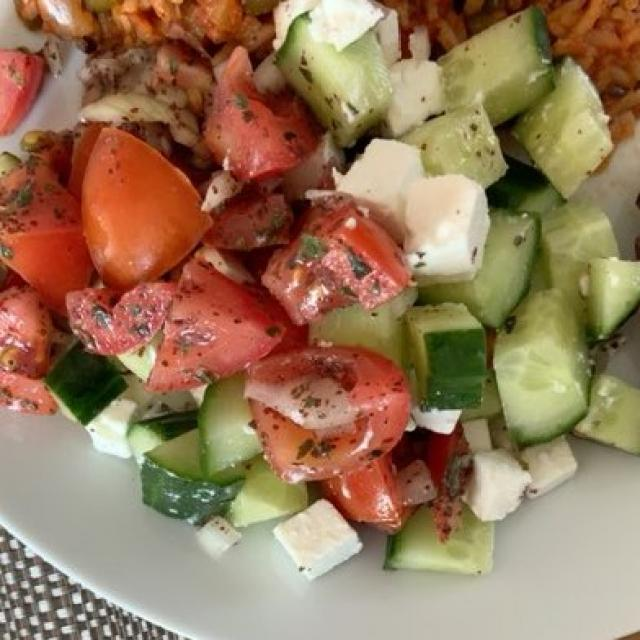greek-salad: (6, 2, 633, 564)
